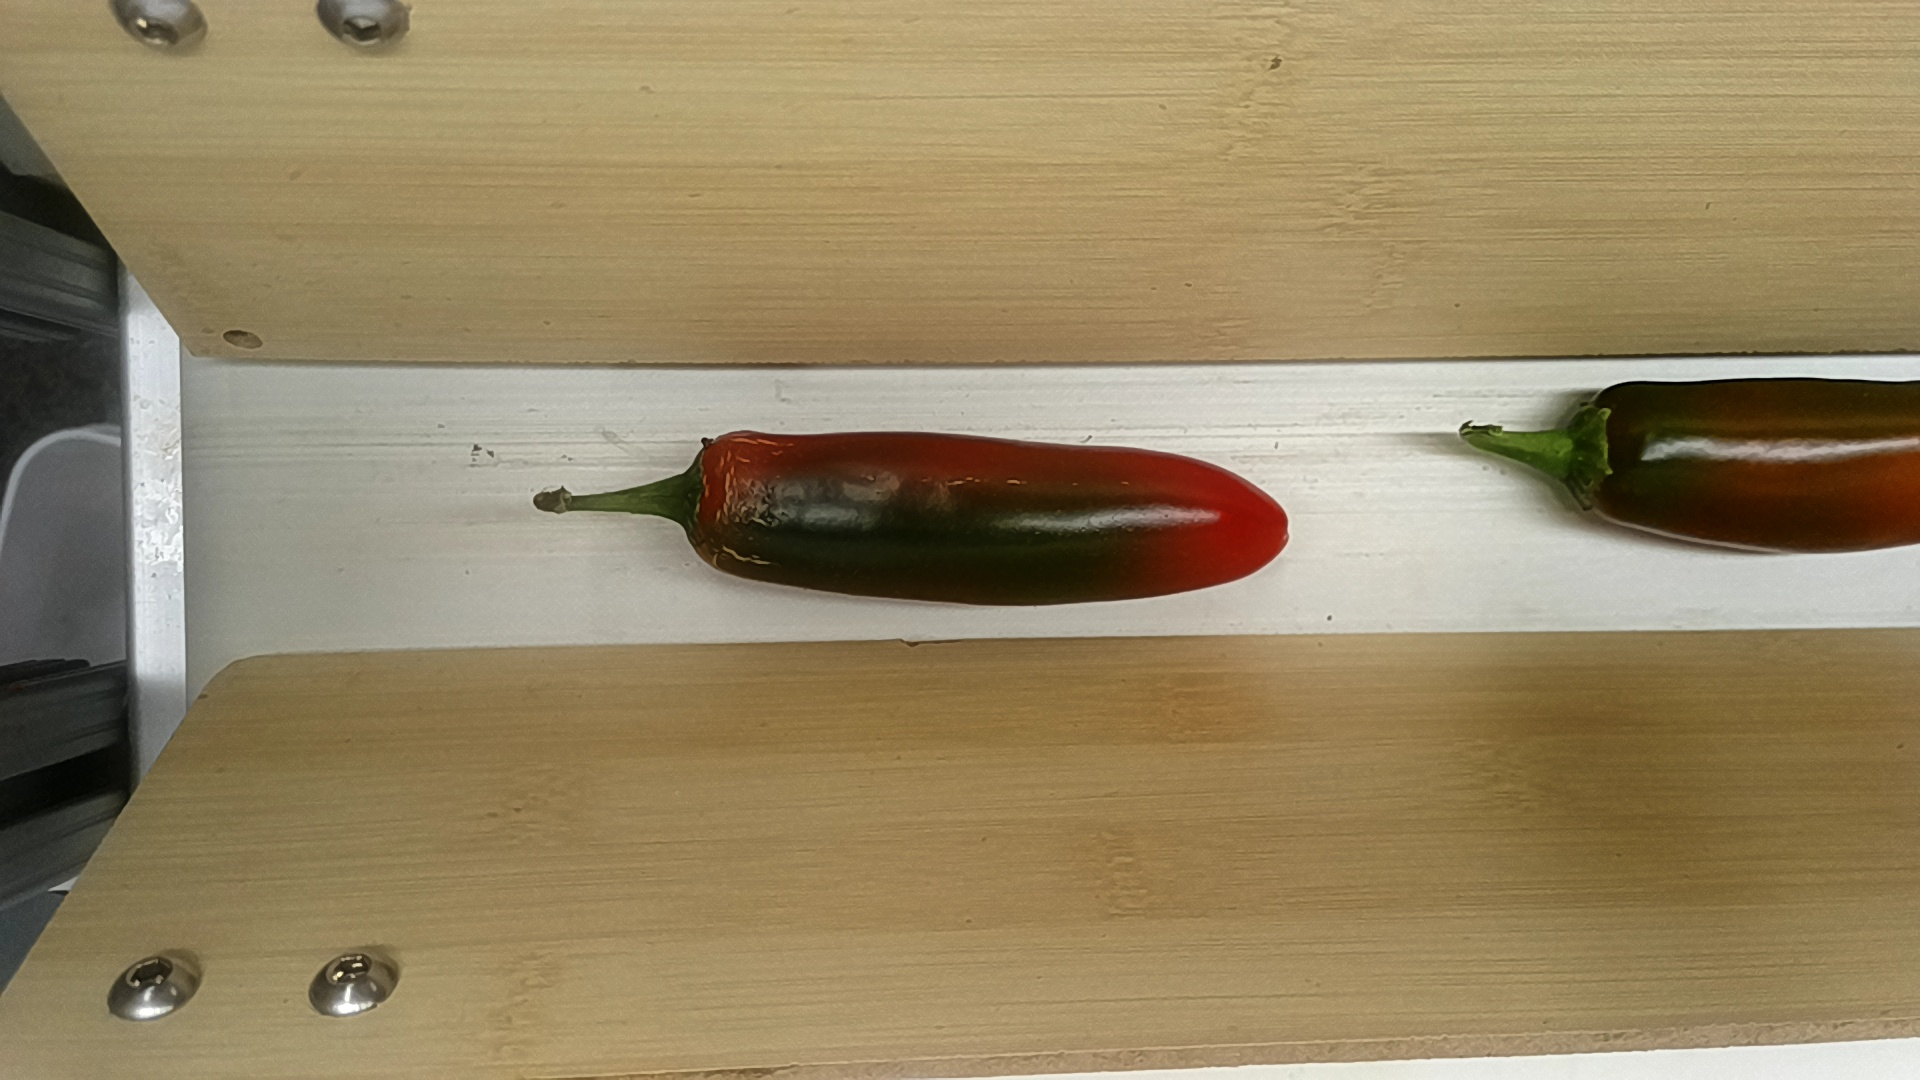Cut Point: (671, 419, 741, 585), (1567, 378, 1638, 535)
